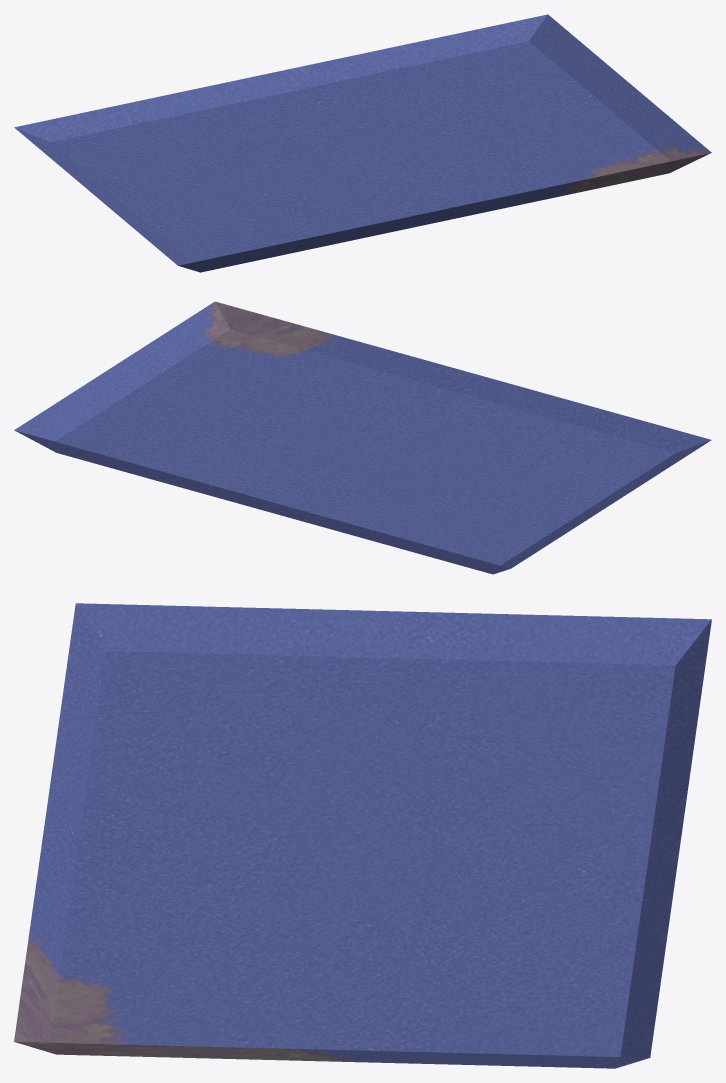
Rendered from bandeja.fbx.
3 renders of one model, top to bottom at view 1: azimuth 30°, elevation 25°; view 2: azimuth 150°, elevation 25°; view 3: azimuth 270°, elevation 25°, orthographic. The views are drawn at different scales.
Parts seen in each view (by area): view 1: Cube.002; view 2: Cube.002; view 3: Cube.002.
Boxes of the visible parts, x1,y1,x2,y2 form: Cube.002: [14, 14, 711, 272]; Cube.002: [14, 301, 711, 574]; Cube.002: [14, 603, 711, 1068].
Bounding box in the file's own units: 59.7 × 2.36 × 38.74.
1 material, 1 textured.
